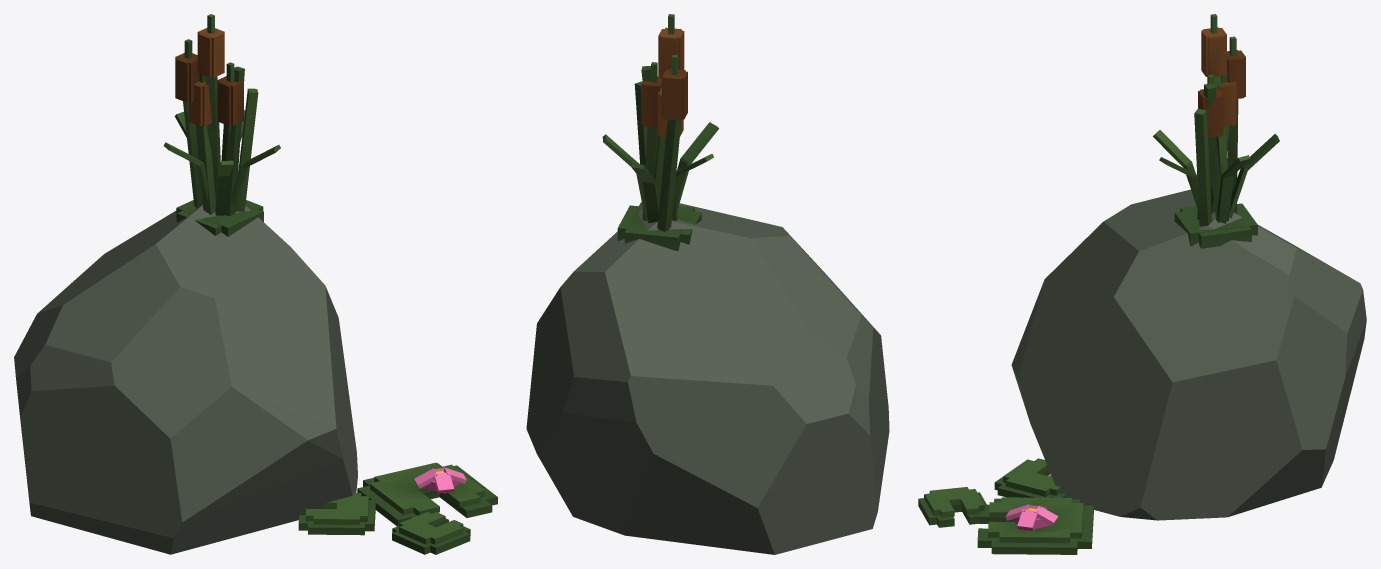
Rendered from ReedyBoulder.fbx.
3 renders of one model, left to right at view 1: azimuth 30°, elevation 25°; view 2: azimuth 150°, elevation 25°; view 3: azimuth 270°, elevation 25°, orthographic. The views are drawn at different scales.
Visible parts, largest first — view 1: ReedyBoulder, ReedyBoulder_Cattails, ReedyBoulder_LilyPads; view 2: ReedyBoulder, ReedyBoulder_Cattails; view 3: ReedyBoulder, ReedyBoulder_Cattails, ReedyBoulder_LilyPads.
Part boxes in pixels (x1,y1,x2,y2): ReedyBoulder: [14, 205, 357, 554]; ReedyBoulder_Cattails: [163, 14, 280, 236]; ReedyBoulder_LilyPads: [298, 462, 497, 554]; ReedyBoulder: [526, 203, 889, 554]; ReedyBoulder_Cattails: [602, 14, 718, 250]; ReedyBoulder: [1011, 189, 1366, 520]; ReedyBoulder_Cattails: [1153, 14, 1279, 248]; ReedyBoulder_LilyPads: [918, 458, 1093, 554].
Bounding box in the file's own units: 18.84 × 22.01 × 19.78.
